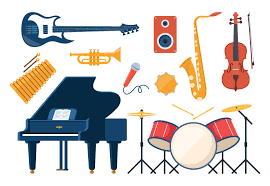Piano: (11, 68, 130, 180)
Saxophone: (175, 3, 231, 113)
Violin: (216, 7, 268, 101)
